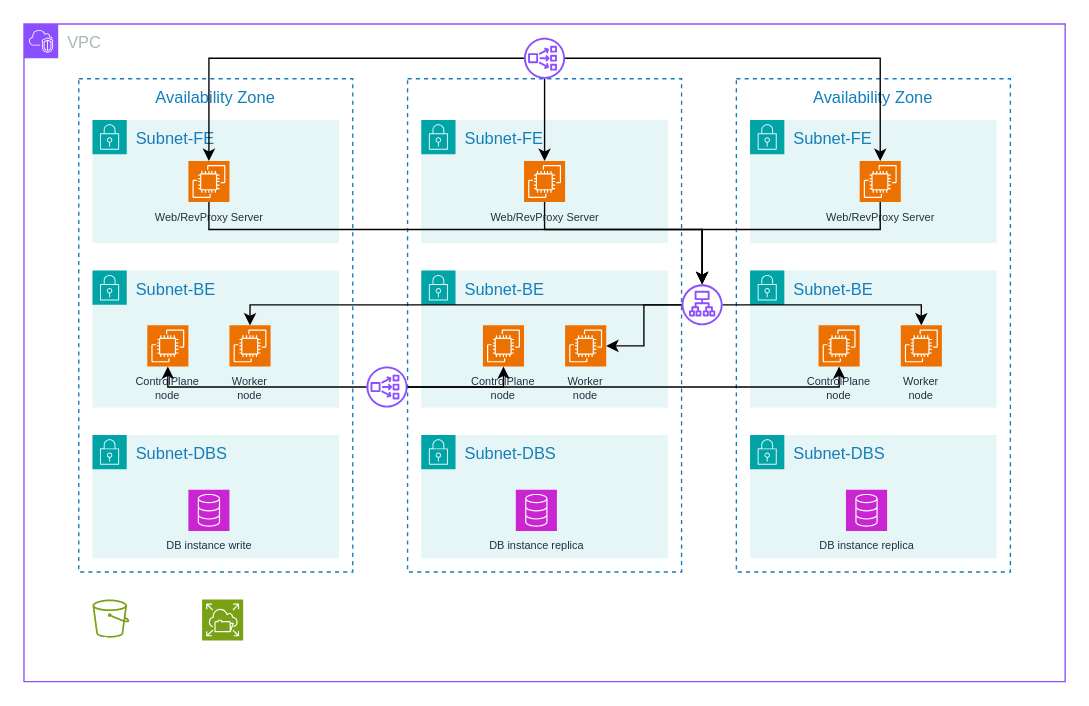
Some shapes in this 1089 by 706 pixel diagram are drawn without their labels. Here are the shapes that lost their labels. From the top down, the centre of each, then its label:
(110,618): Internal Registry
(222,619): Shared Filesystem
